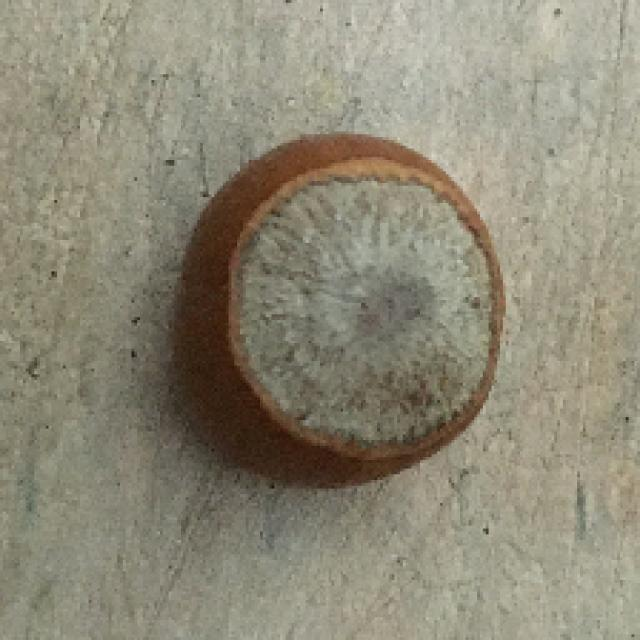qualityHazelnut: (178, 141, 507, 487)
